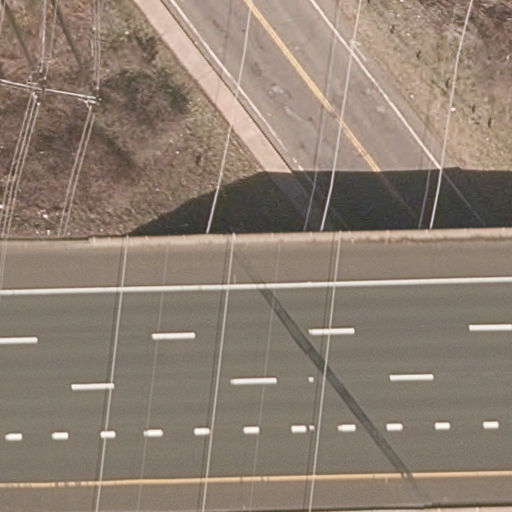DT: (1, 60, 103, 110)
